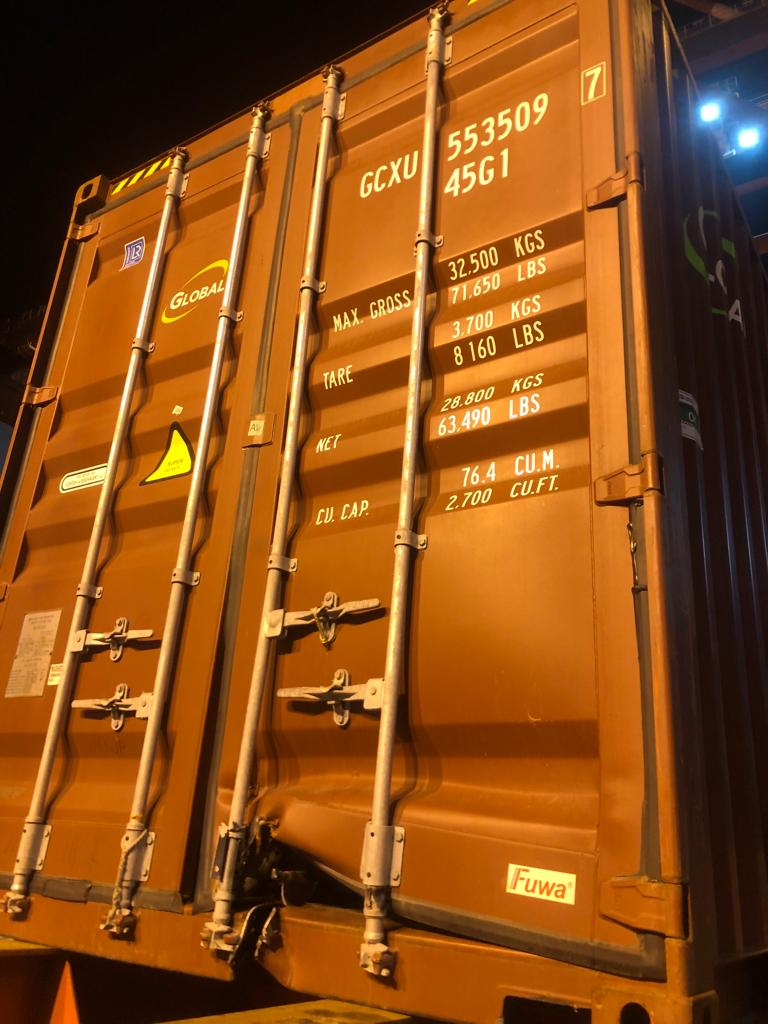dented: (198, 799, 373, 943)
